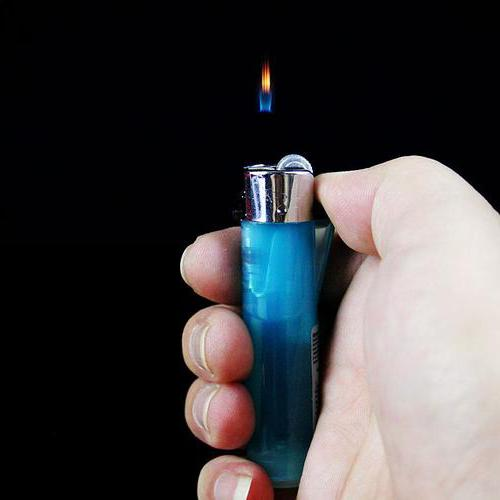fire: (243, 57, 282, 132)
